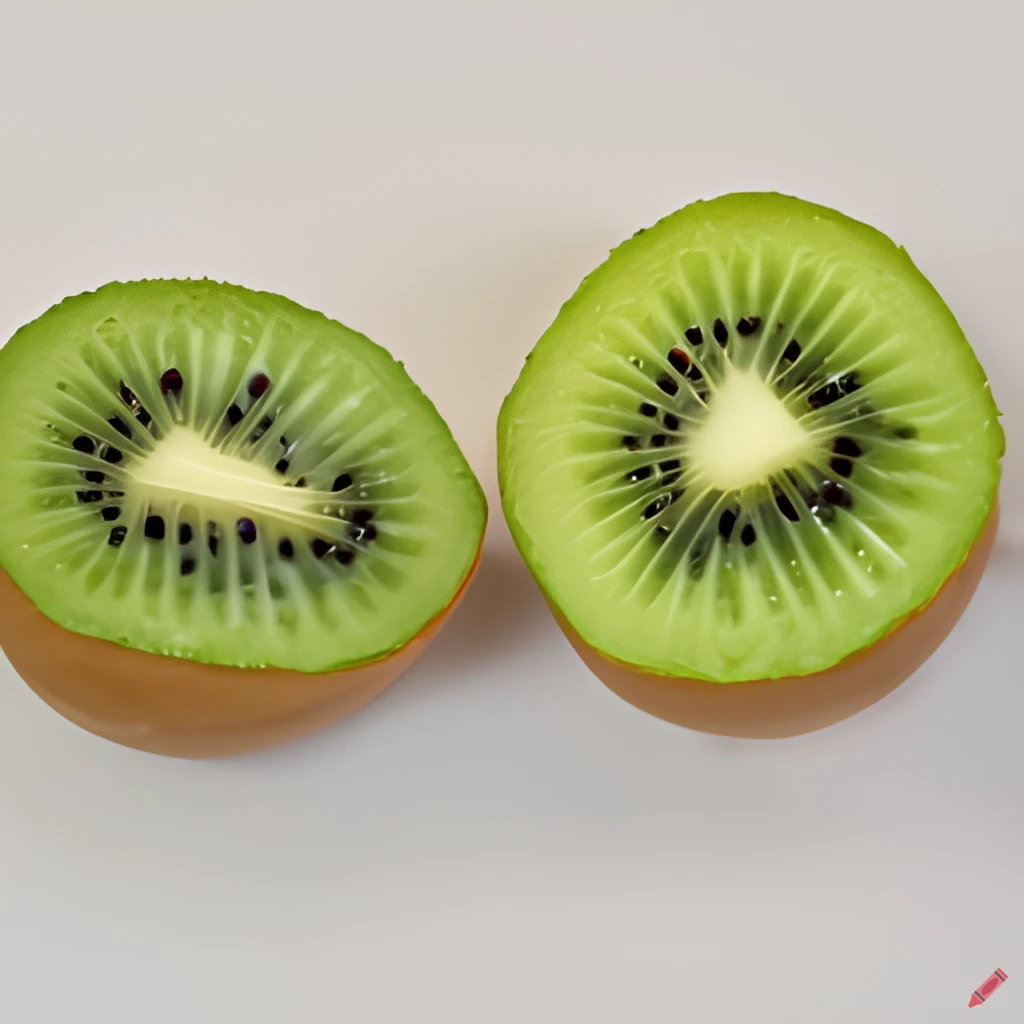Kiwi: (470, 187, 1024, 766)
